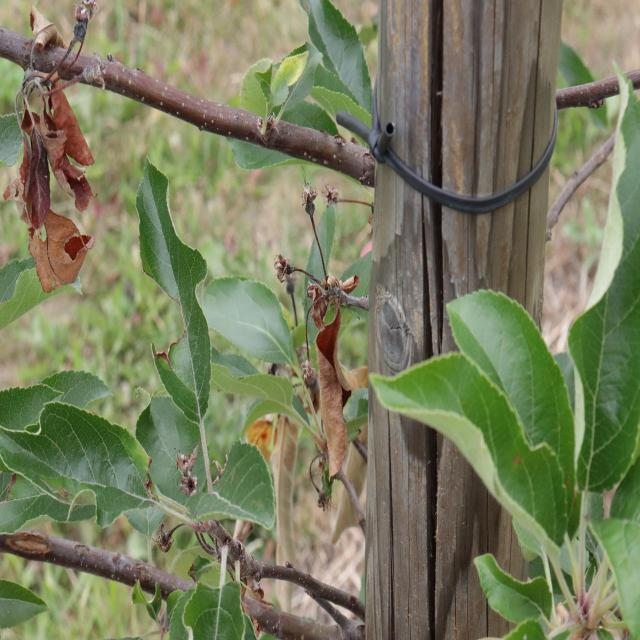-FireBlight-: (5, 62, 96, 286), (304, 290, 354, 481), (258, 416, 308, 566)
